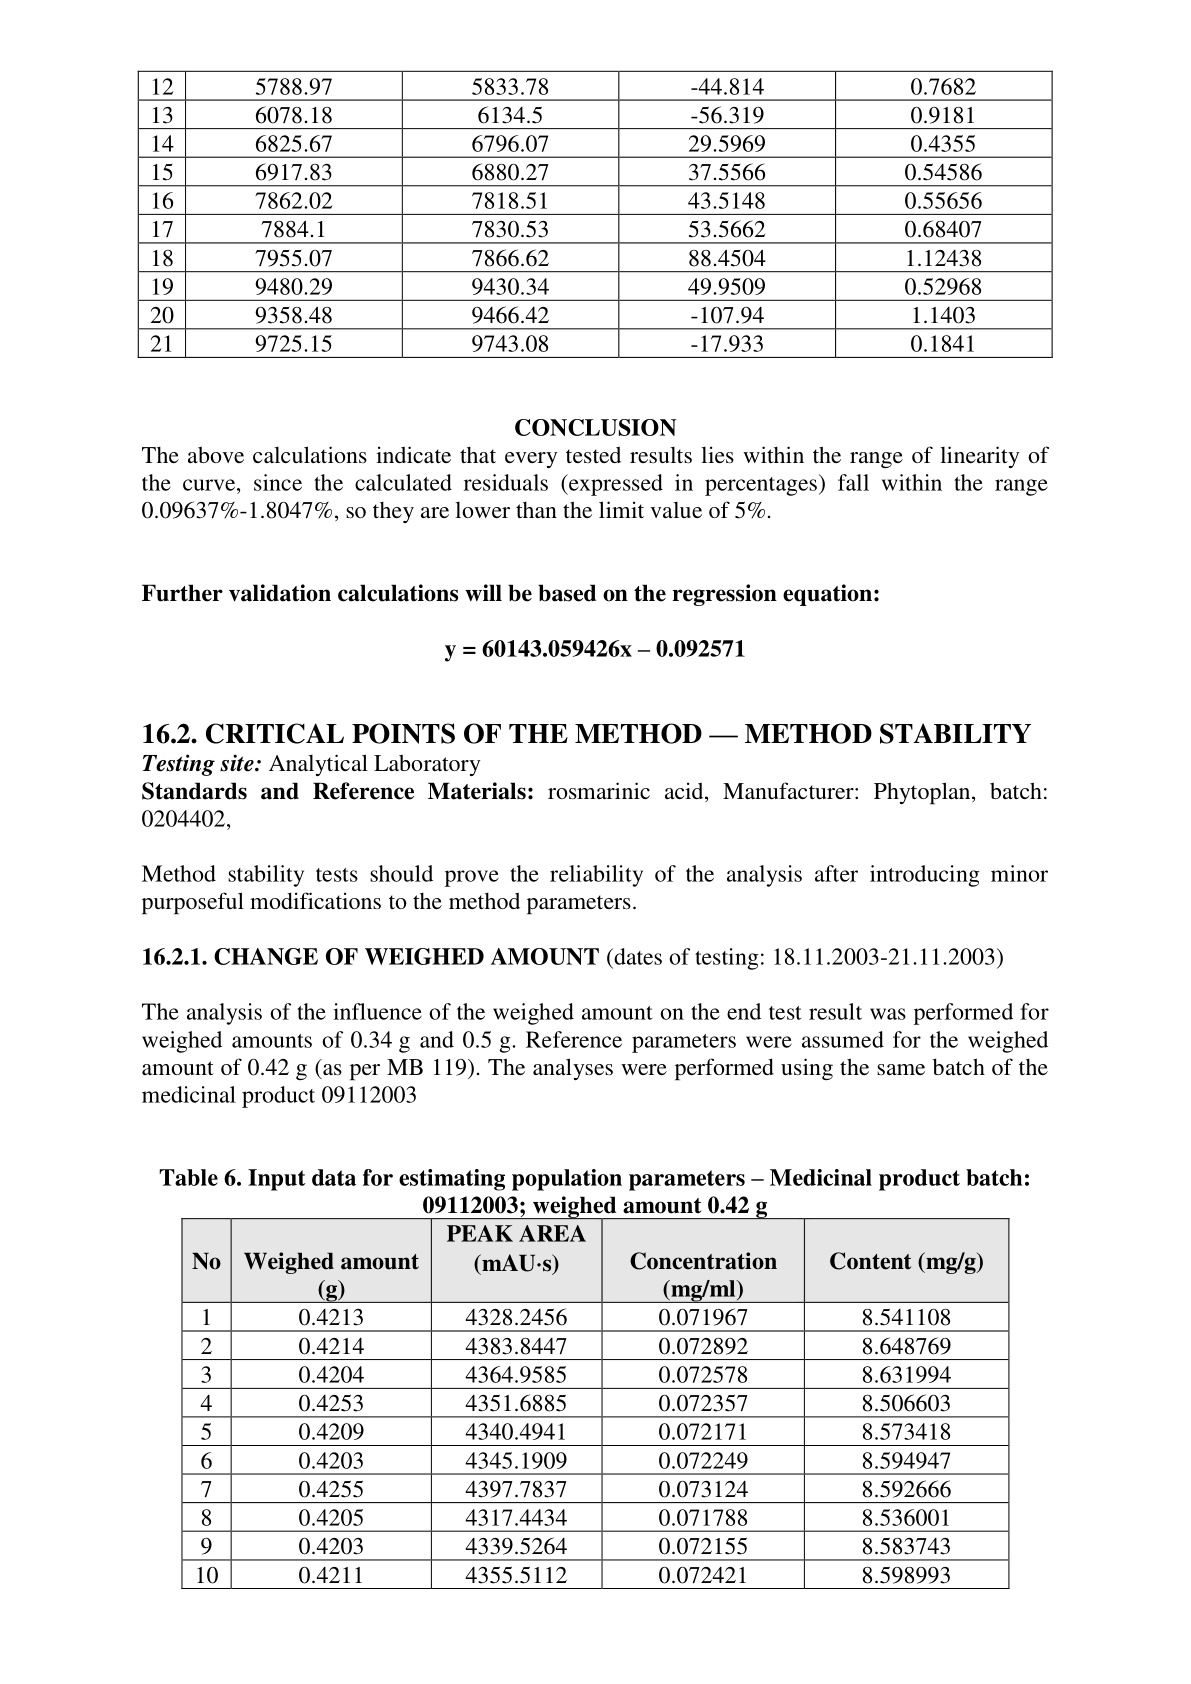full_lined: (180, 1218, 1011, 1591), (137, 70, 1054, 359)
